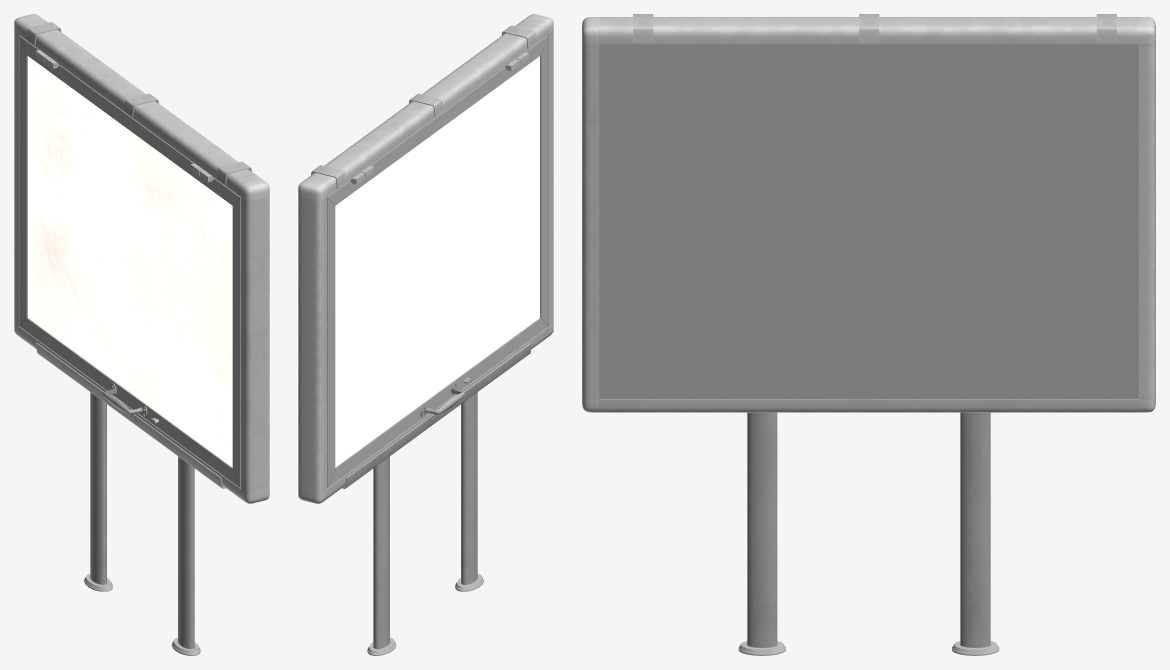
The model's file is SM_Info_Panel_01a.fbx.
3 renders of one model, left to right at view 1: azimuth 30°, elevation 25°; view 2: azimuth 150°, elevation 25°; view 3: azimuth 270°, elevation 25°, orthographic. The views are drawn at different scales.
Visible parts, largest first — view 1: SM_Info_Panel_01a; view 2: SM_Info_Panel_01a; view 3: SM_Info_Panel_01a.
Boxes of the visible parts, x1,y1,x2,y2 form: SM_Info_Panel_01a: (14,14,269,655); SM_Info_Panel_01a: (298,14,553,655); SM_Info_Panel_01a: (582,14,1155,655).
Size of the model in its own units: 15.13 by 150 by 182.
3 materials, 2 textured.
